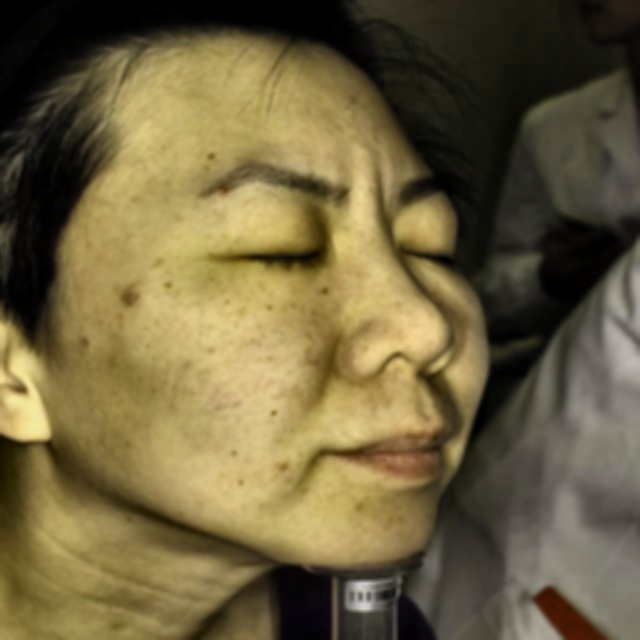comedone: (119, 288, 149, 315)
